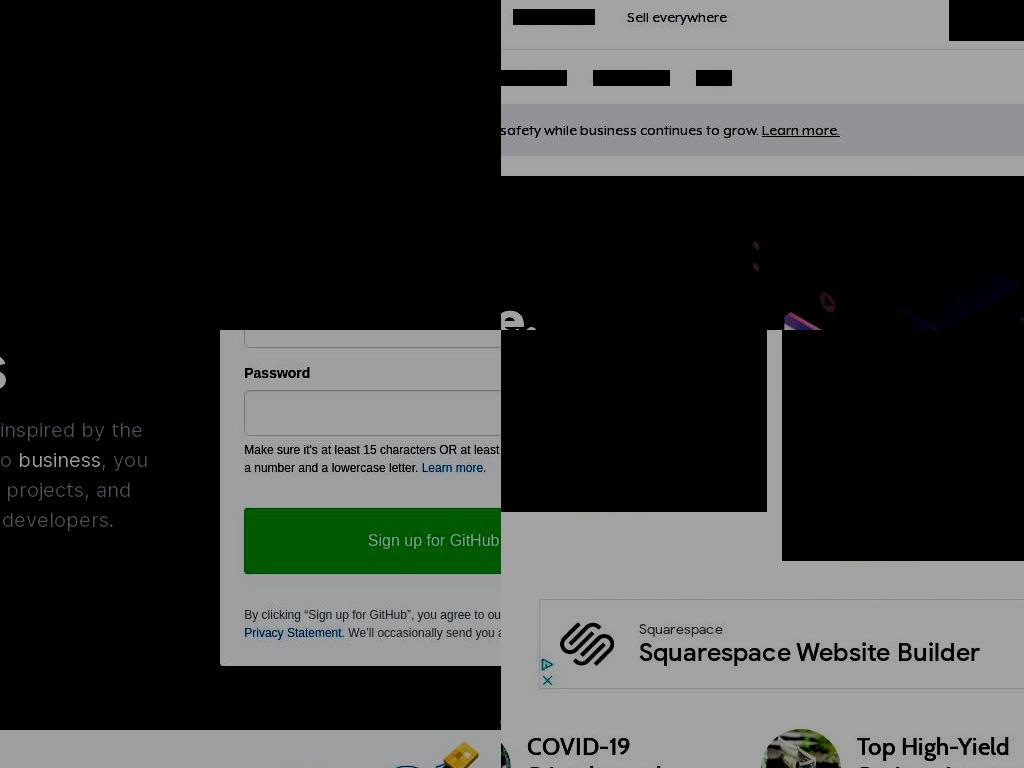button: (782, 330, 1024, 561), (501, 330, 767, 512), (244, 508, 501, 574), (745, 729, 1024, 768), (501, 729, 731, 768), (949, 0, 1024, 41), (18, 447, 101, 473)
field: (244, 390, 501, 436), (244, 330, 501, 348)
heading: (0, 0, 501, 219), (782, 389, 1024, 474), (501, 389, 757, 446), (857, 732, 1024, 768), (527, 732, 662, 768)
iframe: (0, 0, 501, 330), (539, 599, 1024, 689)
image: (501, 175, 1024, 330), (179, 690, 501, 768), (761, 729, 842, 768)
label: (244, 363, 501, 384)
link: (627, 9, 727, 25), (244, 626, 343, 640), (762, 121, 840, 138), (513, 9, 595, 25), (593, 70, 670, 86), (501, 70, 567, 86), (421, 461, 483, 475), (696, 70, 732, 86)
text: (782, 476, 1024, 561), (501, 448, 757, 512), (0, 447, 148, 532), (244, 443, 501, 475), (0, 417, 143, 472), (501, 121, 762, 138), (244, 608, 501, 622), (348, 626, 501, 640), (298, 461, 416, 475), (321, 443, 437, 457), (244, 443, 322, 457), (460, 443, 501, 457), (0, 447, 18, 472), (435, 443, 461, 457), (415, 461, 423, 475), (341, 626, 348, 640), (483, 461, 487, 475)
